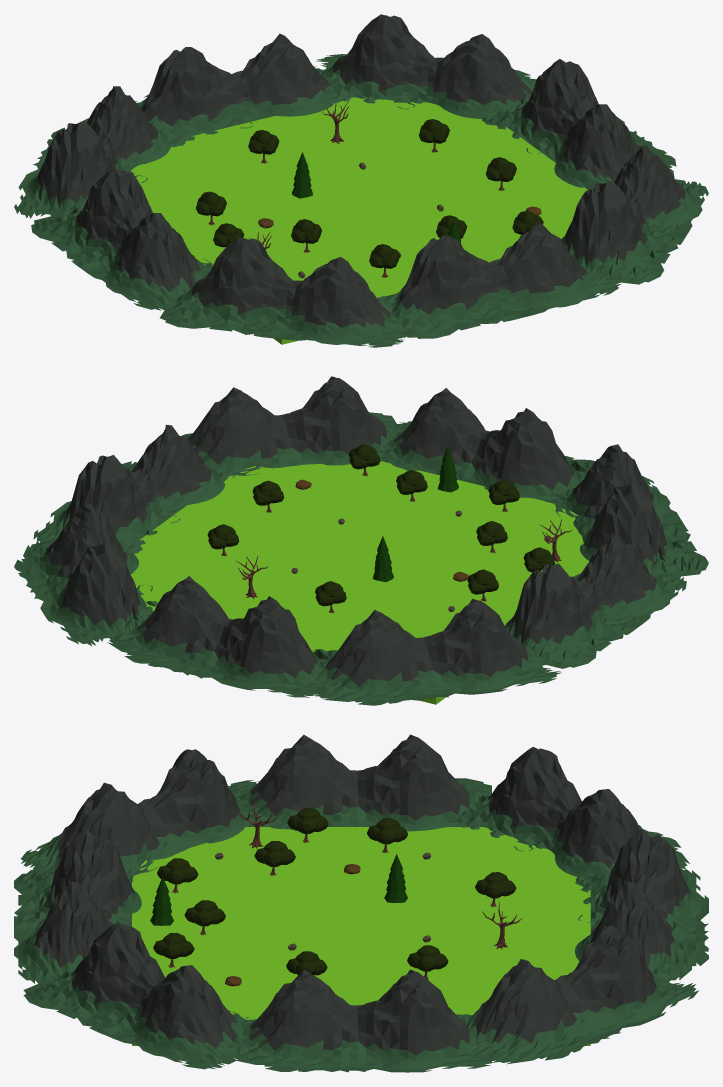
File: Stage.fbx
3 views of the same model, one above another, from view 1: azimuth 30°, elevation 25°; view 2: azimuth 150°, elevation 25°; view 3: azimuth 270°, elevation 25° (orthographic). The views are drawn at different scales.
Visible parts, largest first — view 1: Cube, mountain__5_, mountain, mountain__4_, mountain__2_, mountain__1_, mountain__7_, mountain__3_, mountain__6_, oakTree__2_, oakTree__5_, oakTree__4_ (+4 smaller); view 2: Cube, mountain__6_, mountain__1_, mountain__2_, mountain__7_, mountain, mountain__4_, mountain__3_, mountain__5_, oakTree__7_, oakTree__3_, oakTree__2_ (+8 smaller); view 3: Cube, mountain__3_, mountain__4_, mountain__7_, mountain__2_, mountain__5_, mountain__6_, mountain, mountain__1_, oakTree__6_, oakTree__3_, oakTree__4_ (+8 smaller).
Boxes of the visible parts, x1,y1,x2,y2 form: Cube: (131,97,587,344); mountain__5_: (160,237,406,347); mountain: (377,222,621,338); mountain__4_: (316,14,536,119); mountain__2_: (31,167,212,310); mountain__1_: (135,33,353,146); mountain__7_: (561,146,708,284); mountain__3_: (482,59,676,189); mountain__6_: (14,86,170,218); oakTree__2_: (196,191,226,225); oakTree__5_: (418,119,449,152); oakTree__4_: (369,244,400,277); Cube: (130,461,589,704); mountain__6_: (307,598,561,705); mountain__1_: (107,576,337,697); mountain__2_: (505,533,686,668); mountain__7_: (181,376,402,475); mountain: (379,388,595,504); mountain__4_: (14,504,157,646); mountain__3_: (33,424,234,553); mountain__5_: (550,444,708,578); oakTree__7_: (252,480,284,512); oakTree__3_: (396,469,427,501); oakTree__2_: (467,569,498,601); Cube: (132,827,590,1045); mountain__3_: (232,969,492,1072); mountain__4_: (467,925,698,1064); mountain__7_: (23,923,248,1069); mountain__2_: (228,734,491,831); mountain__5_: (21,749,253,878); mountain__6_: (452,747,689,884); mountain: (14,829,141,983); mountain__1_: (575,829,708,982); oakTree__6_: (475,872,516,907); oakTree__3_: (184,900,225,935); oakTree__4_: (157,858,198,893).
Size of the model in its own units: 25003 by 3857 by 25003.
